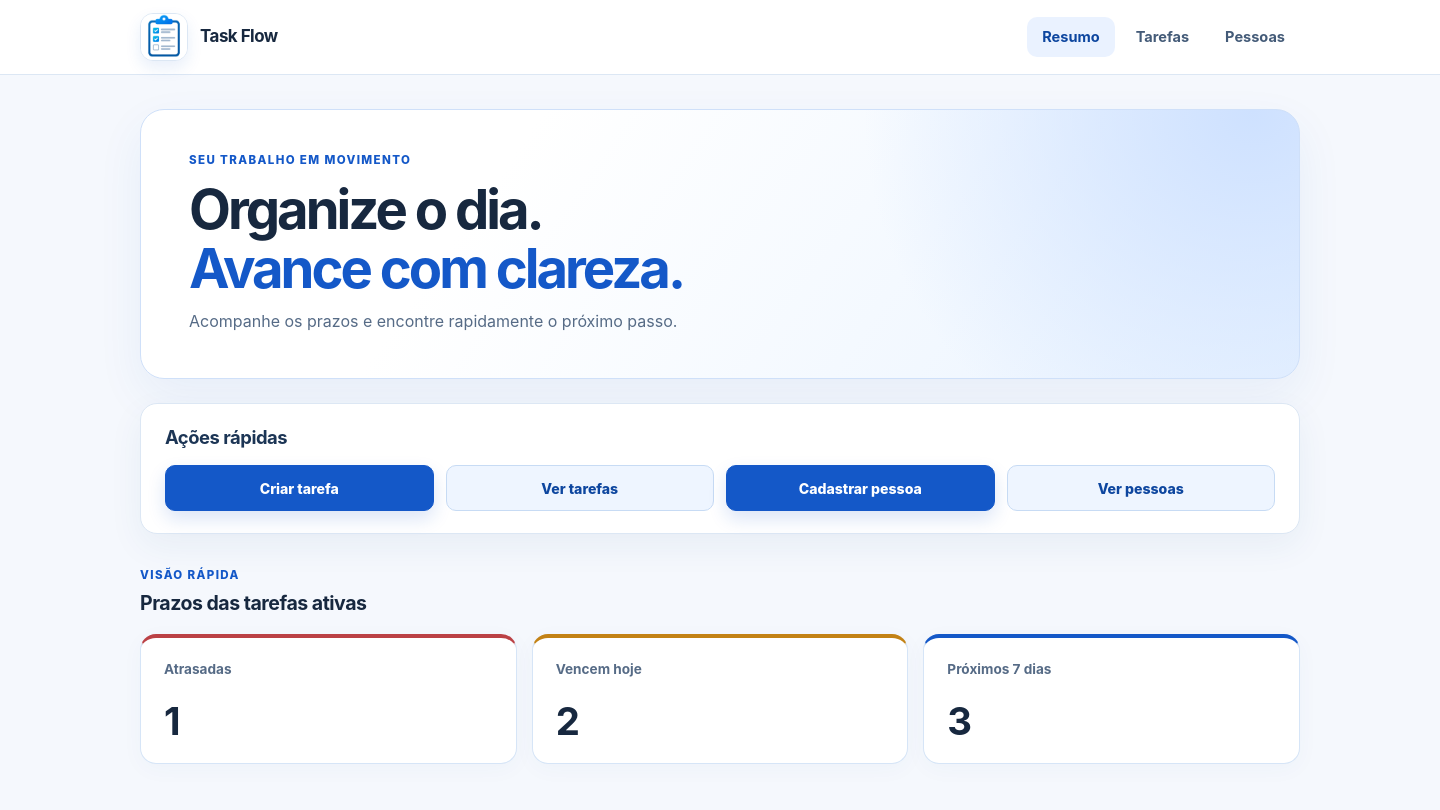
it: navegação entre seções atualiza título e foco do conteúdo
Click the link "Tarefas": (1162, 37) [1136,28,1189,46]
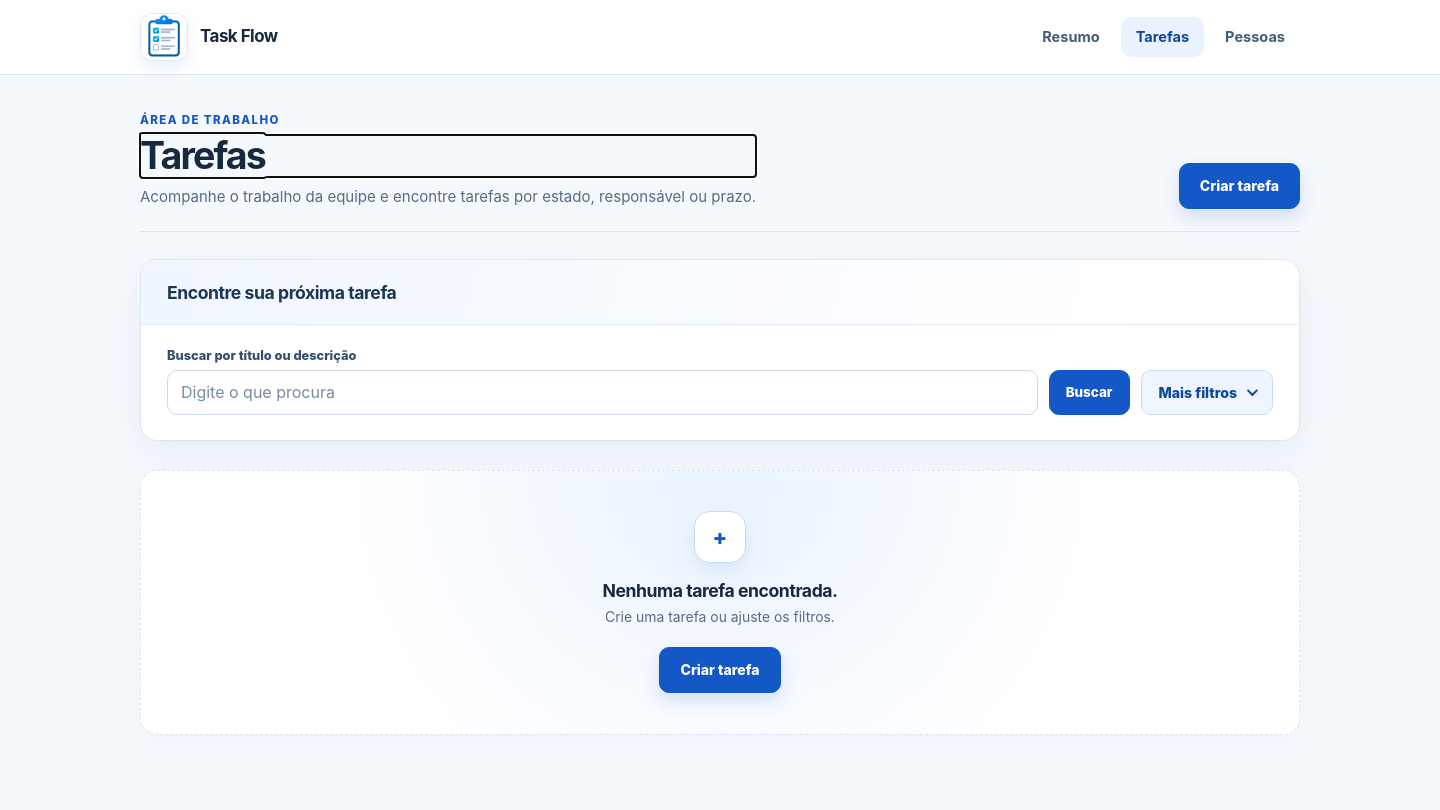
Click the link "Pessoas": (1255, 37) [1225,28,1285,46]
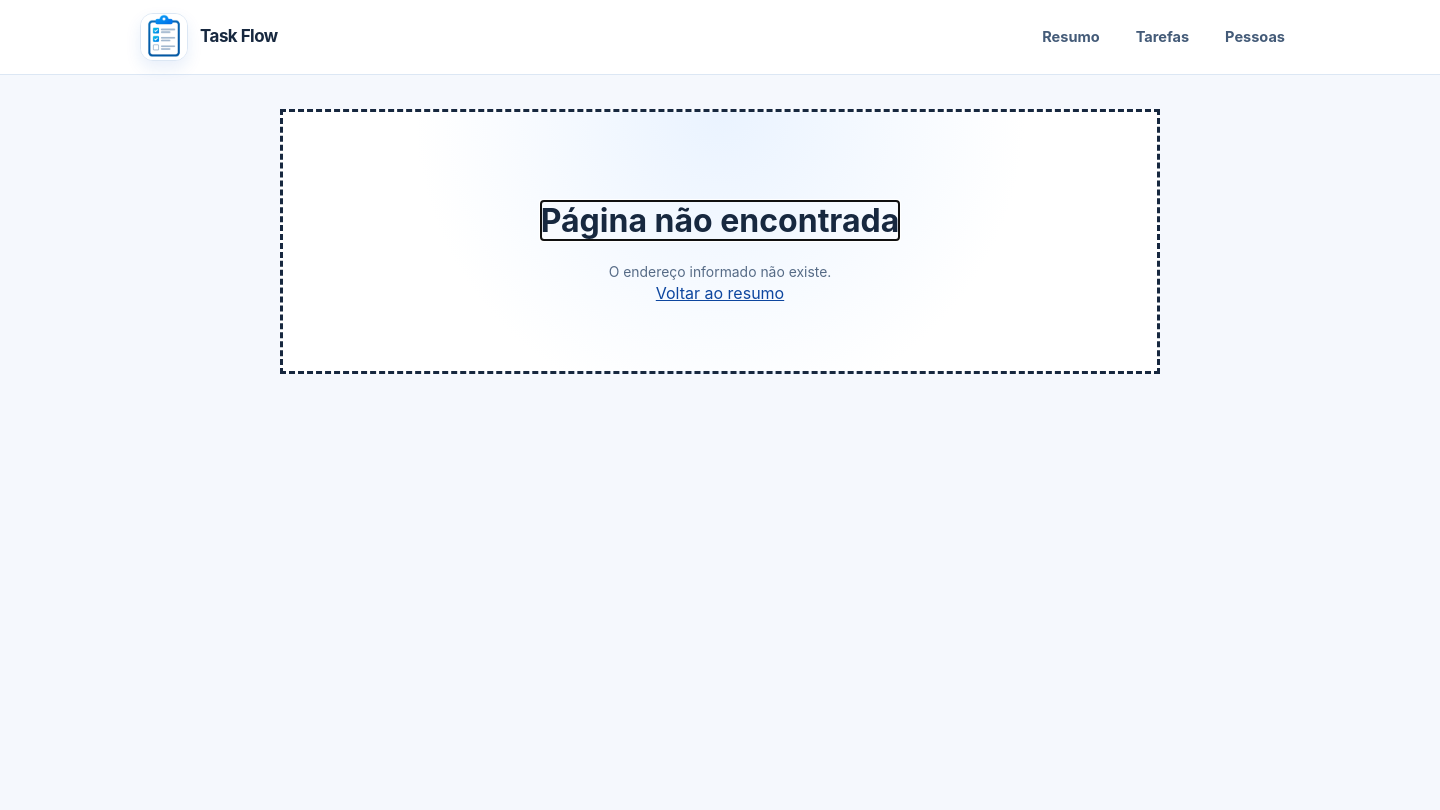
Result: the heading "Página não encontrada" is shown at [541,201,899,240]
